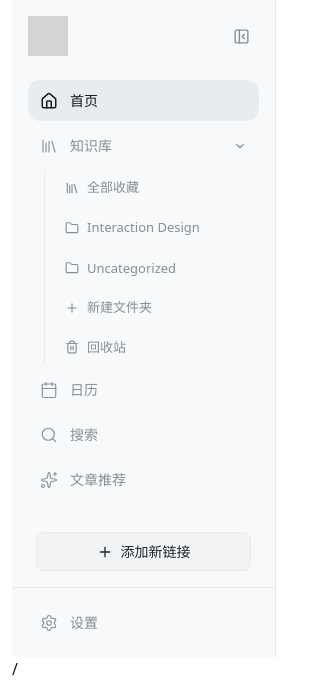
Sidebar › navigates to a folder from the knowledge section
Click the button "Interaction Design" at (156, 228), box [53,210,259,246]
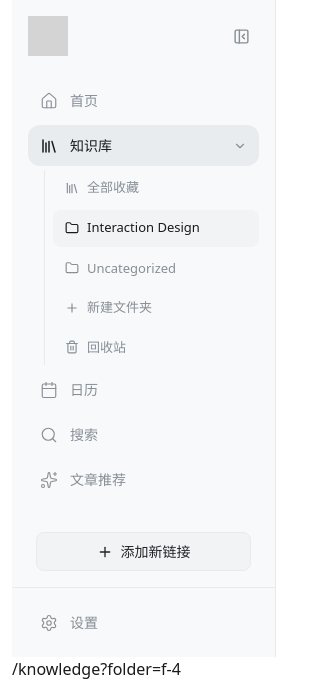
Check: the text with test id "location" reads "/knowledge?folder=f-4", box [12,658,181,680]
